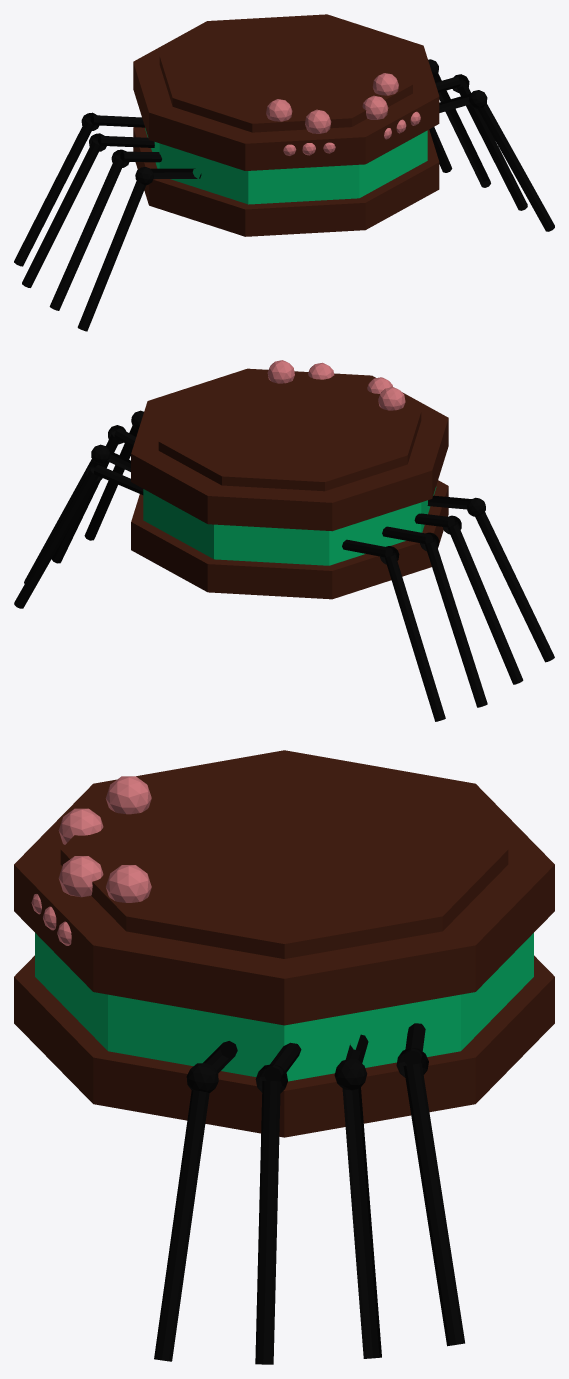
File: aranhabolacha.fbx
3 views of the same model, one above another, from view 1: azimuth 30°, elevation 25°; view 2: azimuth 150°, elevation 25°; view 3: azimuth 270°, elevation 25° (orthographic). The views are drawn at different scales.
Parts seen in each view (by area): view 1: Icosphere.013, Cylinder.002, Cylinder.007, Cylinder.009, Cylinder.005, Cylinder.003, Cylinder.008, Cylinder.010, Icosphere.005, Icosphere, Icosphere.007, Cylinder.004; view 2: Icosphere.013, Cylinder.002, Cylinder.007, Cylinder.009, Cylinder.005, Cylinder.004, Cylinder.003, Cylinder.008, Icosphere.005, Cylinder.010, Icosphere; view 3: Icosphere.013, Cylinder.002, Cylinder.008, Cylinder.004, Icosphere.005, Cylinder.010, Icosphere.007.
Part boxes in pixels (x1=…): Icosphere.013: x1=133, y1=14, x2=439, y2=170; Cylinder.002: x1=133, y1=127, x2=439, y2=236; Cylinder.007: x1=22, y1=133, x2=154, y2=287; Cylinder.009: x1=14, y1=112, x2=144, y2=266; Cylinder.005: x1=49, y1=149, x2=161, y2=310; Cylinder.003: x1=77, y1=181, x2=145, y2=331; Cylinder.008: x1=435, y1=74, x2=527, y2=210; Cylinder.010: x1=478, y1=103, x2=554, y2=231; Icosphere.005: x1=428, y1=59, x2=490, y2=187; Icosphere: x1=135, y1=167, x2=201, y2=185; Icosphere.007: x1=439, y1=90, x2=487, y2=112; Cylinder.004: x1=429, y1=127, x2=452, y2=172; Icosphere.013: x1=131, y1=360, x2=448, y2=531; Cylinder.002: x1=131, y1=480, x2=448, y2=599; Cylinder.007: x1=382, y1=526, x2=487, y2=707; Cylinder.009: x1=342, y1=539, x2=445, y2=721; Cylinder.005: x1=414, y1=513, x2=523, y2=684; Cylinder.004: x1=14, y1=462, x2=143, y2=608; Cylinder.003: x1=475, y1=512, x2=554, y2=662; Cylinder.008: x1=52, y1=425, x2=136, y2=563; Icosphere.005: x1=24, y1=444, x2=130, y2=583; Cylinder.010: x1=84, y1=426, x2=138, y2=540; Icosphere: x1=427, y1=495, x2=485, y2=516; Icosphere.013: x1=14, y1=750, x2=554, y2=1025; Cylinder.002: x1=14, y1=933, x2=554, y2=1137; Cylinder.008: x1=255, y1=1042, x2=301, y2=1364; Cylinder.004: x1=396, y1=1023, x2=464, y2=1346; Icosphere.005: x1=334, y1=1034, x2=381, y2=1358; Cylinder.010: x1=154, y1=1090, x2=209, y2=1361; Icosphere.007: x1=186, y1=1041, x2=237, y2=1092.
Size of the model in its own units: 340 by 145 by 200.
